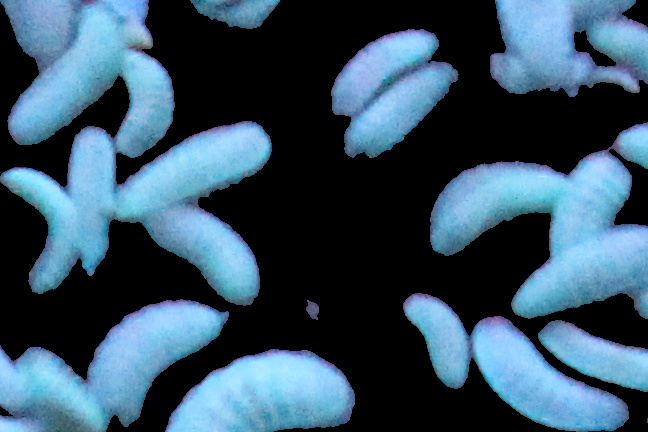larvae: (68, 292, 229, 413), (476, 318, 628, 432), (5, 3, 121, 149), (103, 118, 279, 214), (155, 349, 353, 432), (494, 227, 648, 320), (142, 204, 268, 313), (547, 141, 631, 288), (435, 154, 565, 247), (1, 159, 83, 303), (345, 67, 460, 165), (326, 27, 442, 121), (59, 124, 121, 277), (106, 35, 178, 165), (17, 341, 100, 432), (546, 315, 648, 389), (400, 291, 476, 390), (493, 3, 579, 78)
